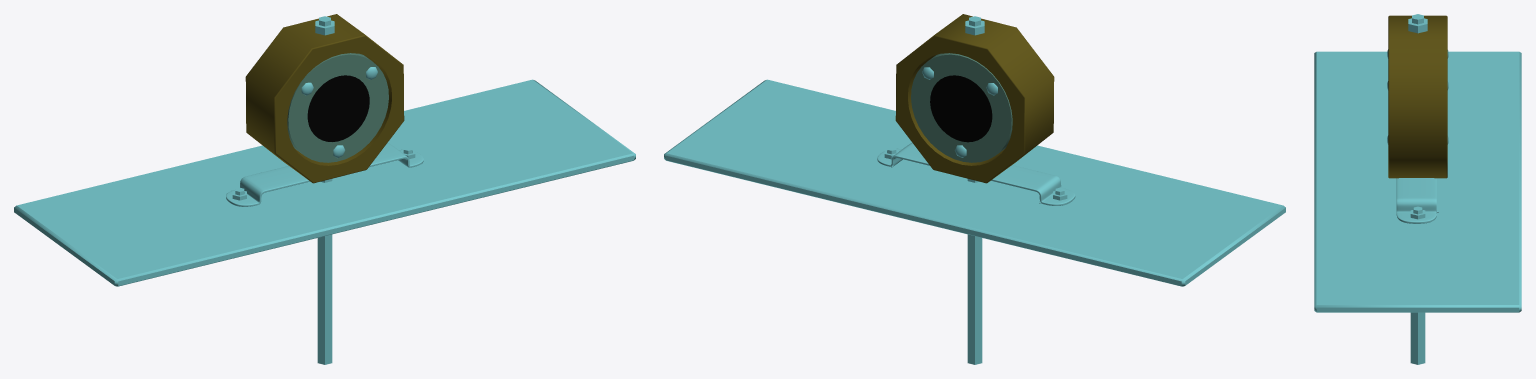
File: 水准仪.fbx
3 views of the same model, side by side, from view 1: azimuth 30°, elevation 25°; view 2: azimuth 150°, elevation 25°; view 3: azimuth 270°, elevation 25° (orthographic).
Parts seen in each view (by area): view 1: 底座, 外环, 芯, 玻璃罩, 卡子, 圆柱_2_2; view 2: 底座, 外环, 芯, 玻璃罩, 圆柱_2_2, 卡子; view 3: 底座, 外环, 卡子, 圆柱_2_2, 圆柱_3_2.
Boxes of the visible parts, x1=… form: 底座: x1=14, y1=79, x2=635, y2=286; 外环: x1=245, y1=14, x2=404, y2=183; 芯: x1=287, y1=53, x2=388, y2=162; 玻璃罩: x1=307, y1=75, x2=369, y2=141; 卡子: x1=226, y1=142, x2=423, y2=206; 圆柱_2_2: x1=317, y1=16, x2=332, y2=364; 底座: x1=664, y1=79, x2=1285, y2=286; 外环: x1=895, y1=14, x2=1054, y2=183; 芯: x1=911, y1=53, x2=1012, y2=162; 玻璃罩: x1=930, y1=75, x2=992, y2=142; 圆柱_2_2: x1=967, y1=16, x2=982, y2=364; 卡子: x1=877, y1=142, x2=1075, y2=205; 底座: x1=1314, y1=51, x2=1521, y2=312; 外环: x1=1388, y1=15, x2=1447, y2=178; 卡子: x1=1396, y1=178, x2=1438, y2=223; 圆柱_2_2: x1=1410, y1=14, x2=1425, y2=364; 圆柱_3_2: x1=1408, y1=18, x2=1427, y2=33.
Size of the model in its own units: 372 by 234 by 127.
